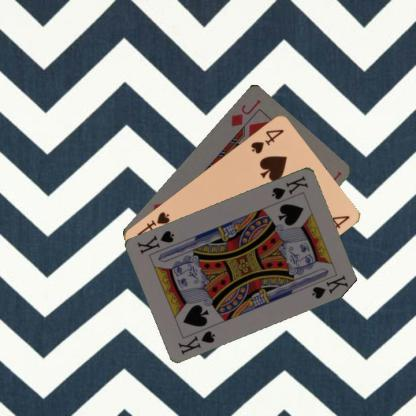4s: (248, 126, 285, 155)
Jd: (227, 96, 263, 127)
Ks: (268, 173, 310, 201), (176, 328, 216, 355)
